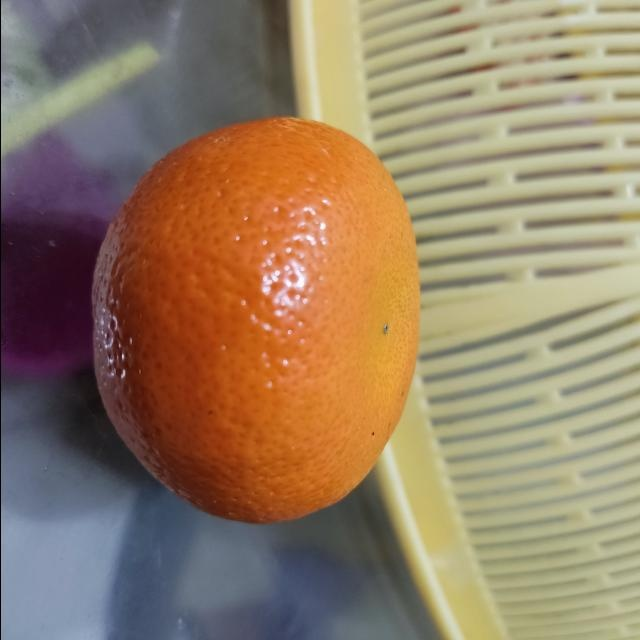agrume: (94, 116, 422, 528)
